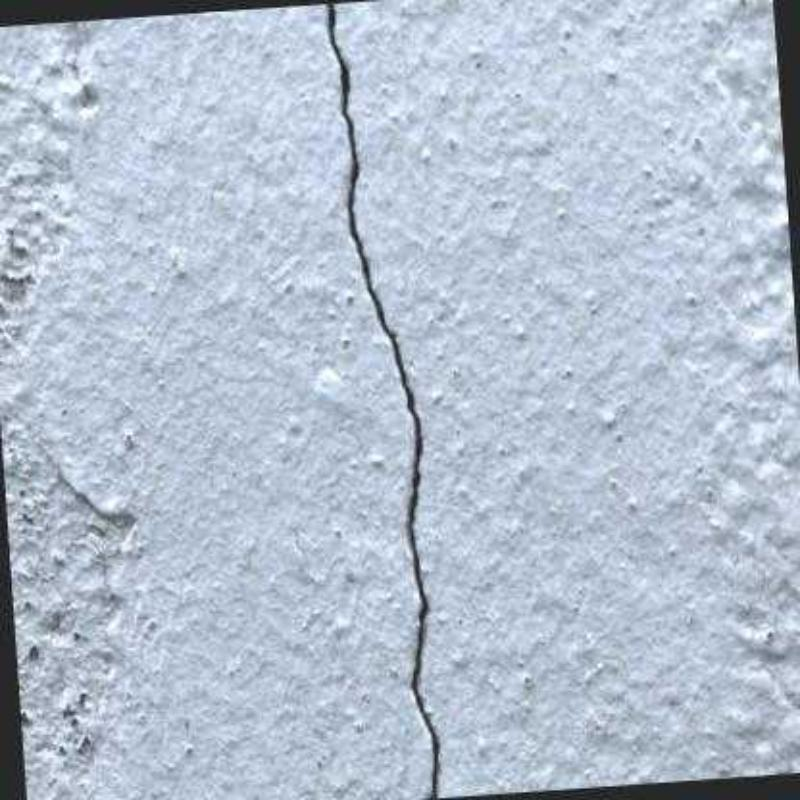pothole: (326, 4, 441, 798)
